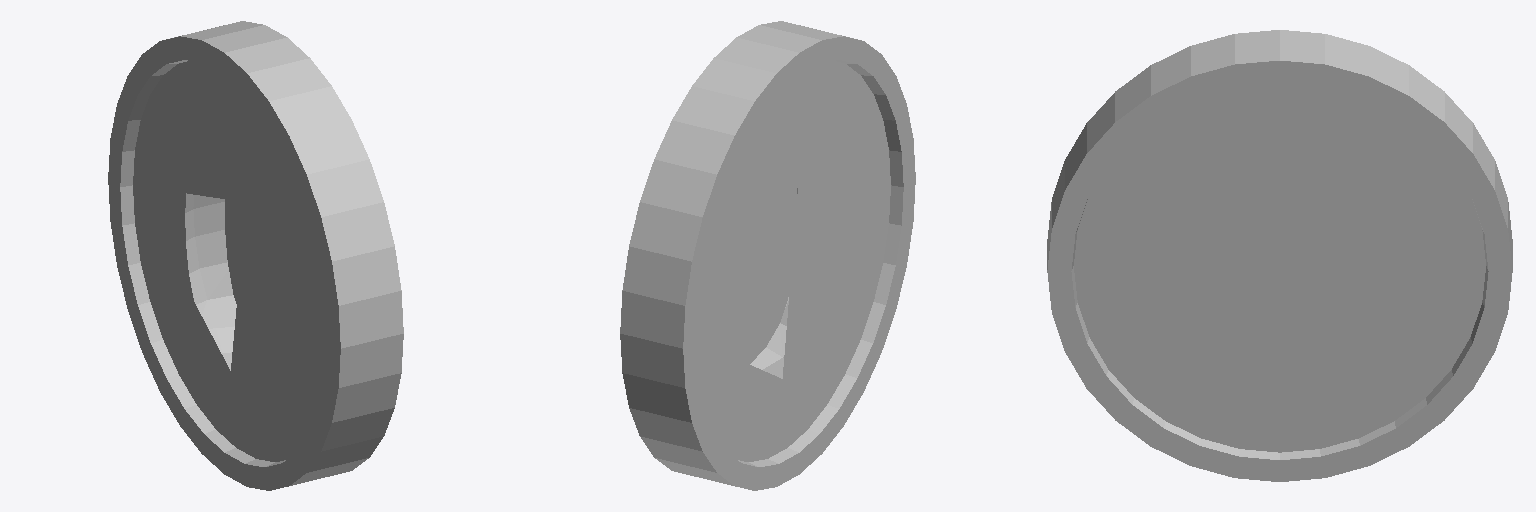
File: _oneda 1.obj
3 views of the same model, side by side, from view 1: azimuth 30°, elevation 25°; view 2: azimuth 150°, elevation 25°; view 3: azimuth 270°, elevation 25° (orthographic).
Parts seen in each view (by area): view 1: Cylinder; view 2: Cylinder; view 3: Cylinder.
Part boxes in pixels (x1,y1,x2,y2): Cylinder: (108,21,403,490); Cylinder: (620,21,915,490); Cylinder: (1047,30,1512,481).
Size of the model in its own units: 0.3127 by 2 by 2.